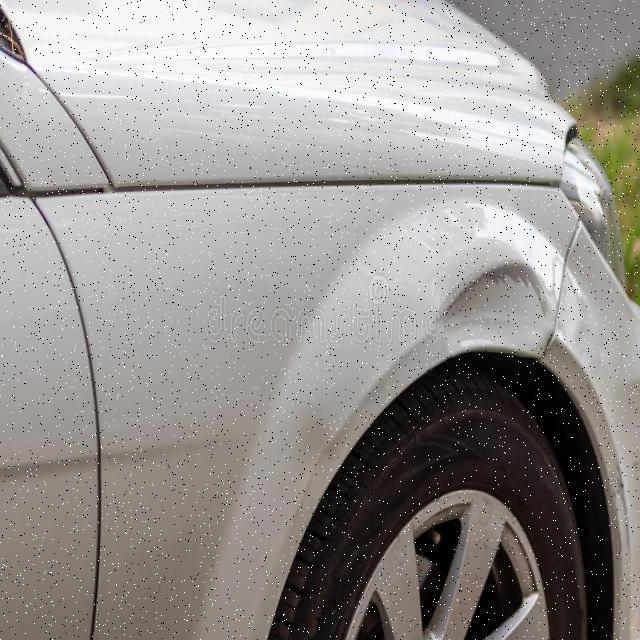fender-dent: (71, 178, 560, 516)
